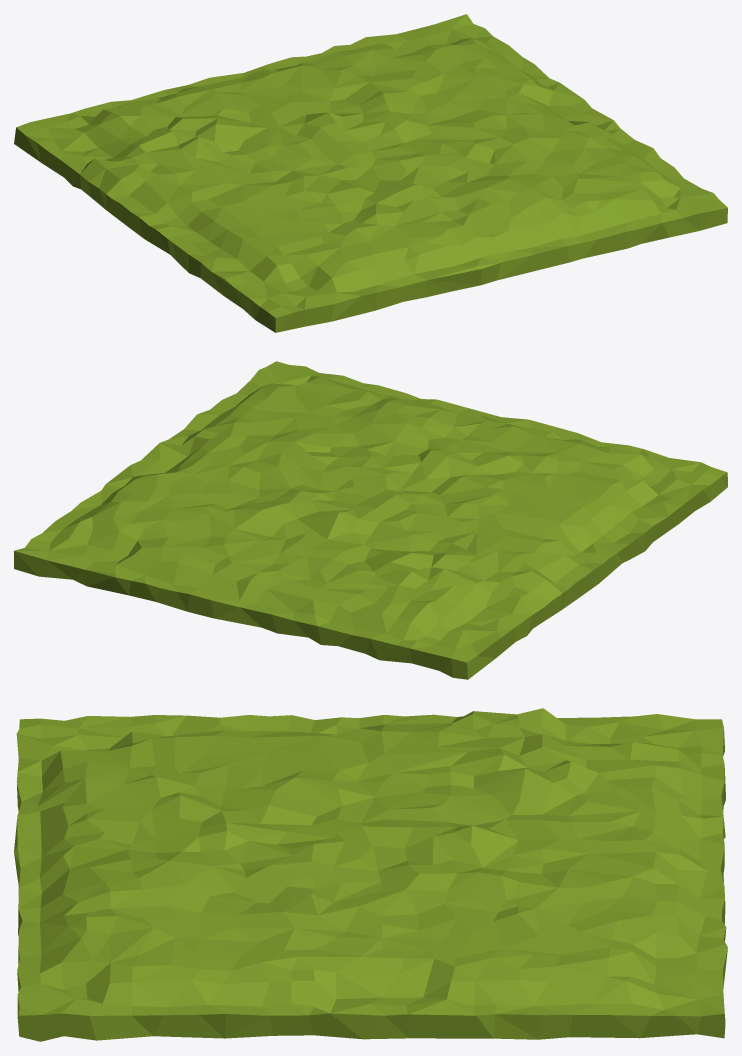
File: player_platform.fbx
3 renders of one model, top to bottom at view 1: azimuth 30°, elevation 25°; view 2: azimuth 150°, elevation 25°; view 3: azimuth 270°, elevation 25°, orthographic. The views are drawn at different scales.
Parts seen in each view (by area): view 1: Plane; view 2: Plane; view 3: Plane.
Part boxes in pixels (left/top/right/bottom): Plane: left=14, top=14, right=727, bottom=332; Plane: left=14, top=361, right=727, bottom=679; Plane: left=14, top=708, right=727, bottom=1041.
Size of the model in its own units: 2015 by 200 by 2024.
